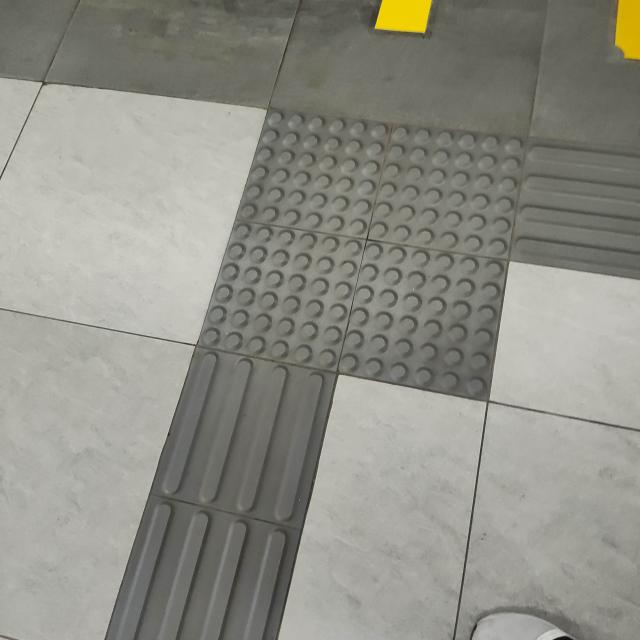kanan: (169, 72, 640, 480)
